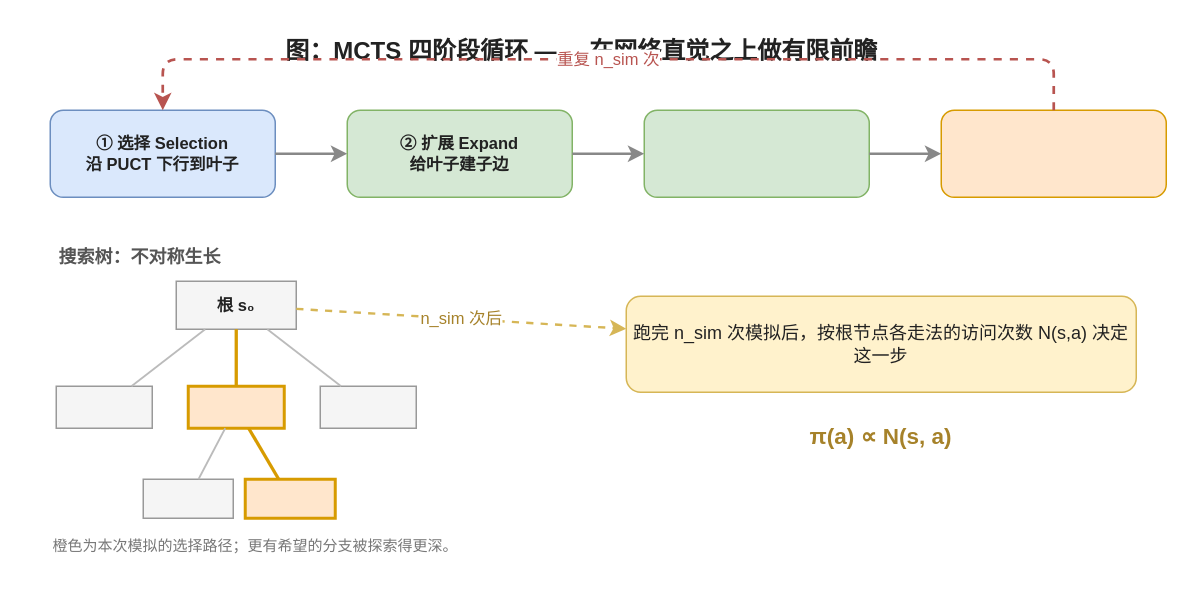
Image size: 1193x594. Some labels were removed from this diagram. The box of each missing label's shape, as (x1, y1, x2, y2) in pixels:
③ 评估 Evaluate 网络给 (P, v)；终局用真实胜负: (643, 109, 869, 197)
④ 回传 Backup value 逐层回传并取反: (940, 109, 1166, 197)
